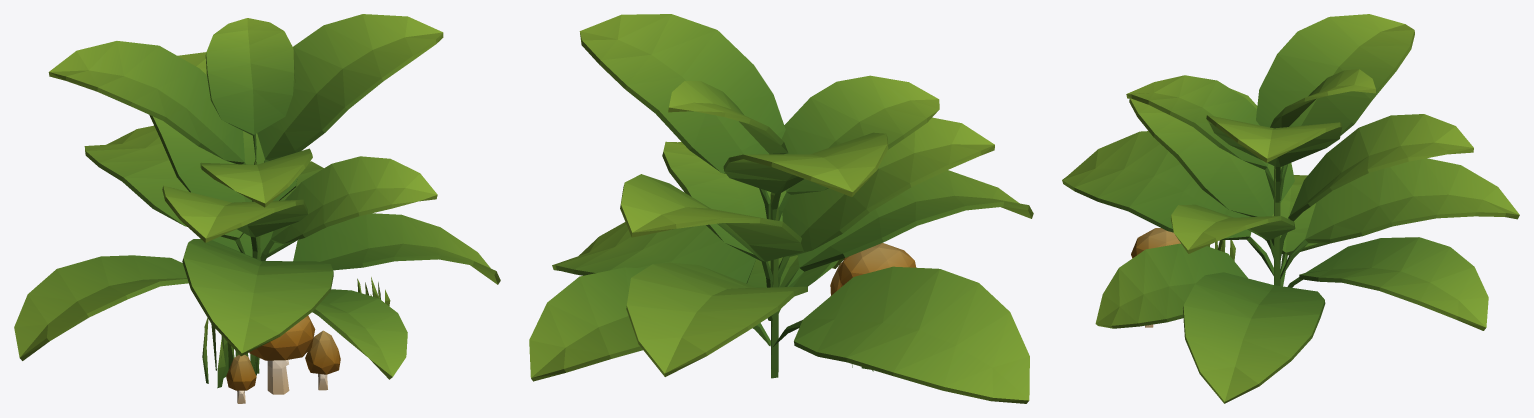
Rendered from Plant_04.fbx.
3 views of the same model, side by side, from view 1: azimuth 30°, elevation 25°; view 2: azimuth 150°, elevation 25°; view 3: azimuth 270°, elevation 25° (orthographic). The views are drawn at different scales.
Parts seen in each view (by area): view 1: Plant_04; view 2: Plant_04; view 3: Plant_04.
Boxes of the visible parts, x1=… form: Plant_04: x1=14, y1=14, x2=500, y2=403; Plant_04: x1=529, y1=14, x2=1033, y2=403; Plant_04: x1=1062, y1=14, x2=1519, y2=403.
Bounding box in the file's own units: 1.14 × 0.6731 × 1.06.
